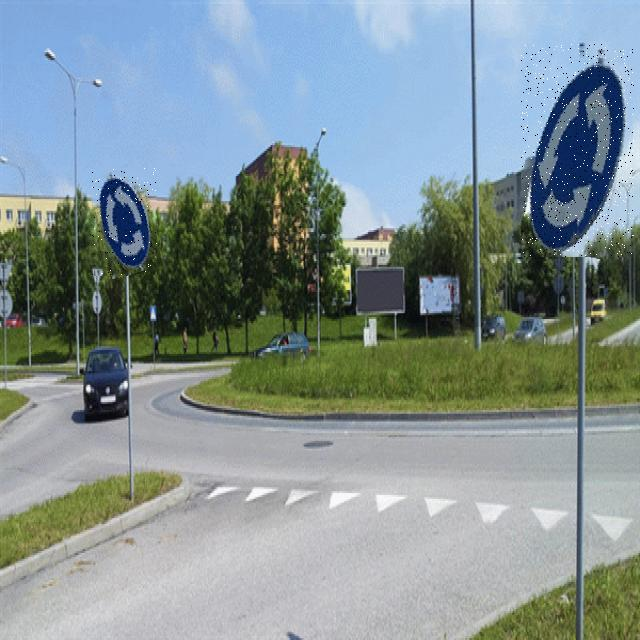roundabout: (521, 44, 634, 257), (92, 167, 157, 276)
